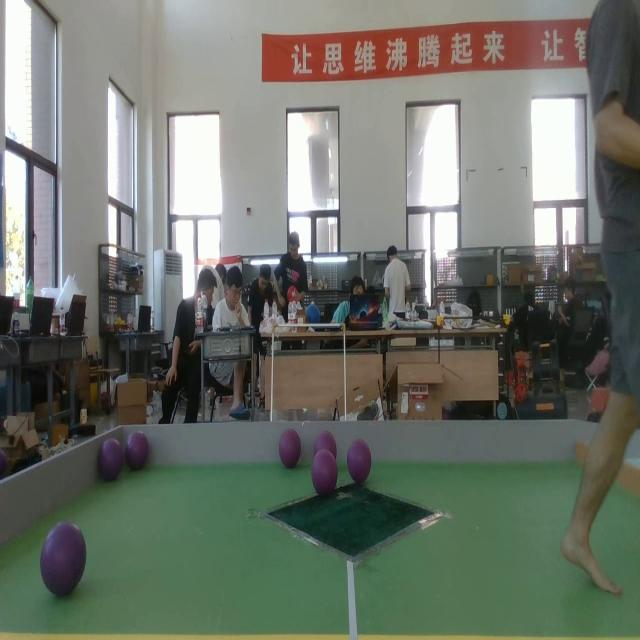invalid: (39, 521, 88, 593), (310, 450, 338, 499), (96, 437, 122, 482), (346, 437, 371, 482), (279, 426, 303, 471), (126, 434, 148, 474), (315, 430, 338, 468)
